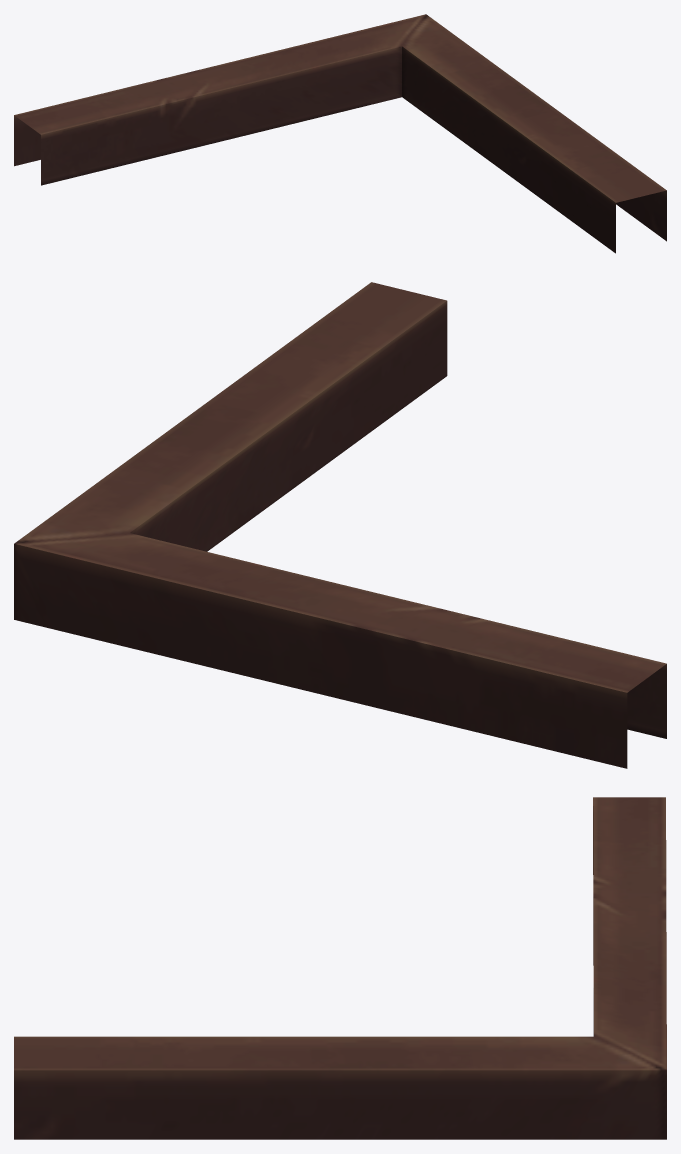
The model's file is sn_jixie_fangkuang_002.FBX.
3 renders of one model, top to bottom at view 1: azimuth 30°, elevation 25°; view 2: azimuth 150°, elevation 25°; view 3: azimuth 270°, elevation 25°, orthographic. The views are drawn at different scales.
Visible parts, largest first — view 1: sn_jixie_fangkuang_002; view 2: sn_jixie_fangkuang_002; view 3: sn_jixie_fangkuang_002.
Part boxes in pixels (x1,y1,x2,y2): sn_jixie_fangkuang_002: (14,14,666,253); sn_jixie_fangkuang_002: (14,282,666,768); sn_jixie_fangkuang_002: (14,797,666,1139).
Bounding box in the file's own units: 14.23 × 14.38 × 1.69.
